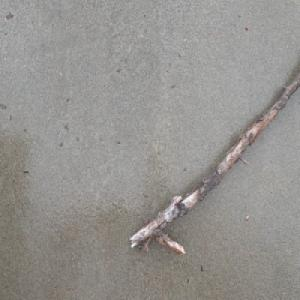Wood: (128, 71, 300, 257)
